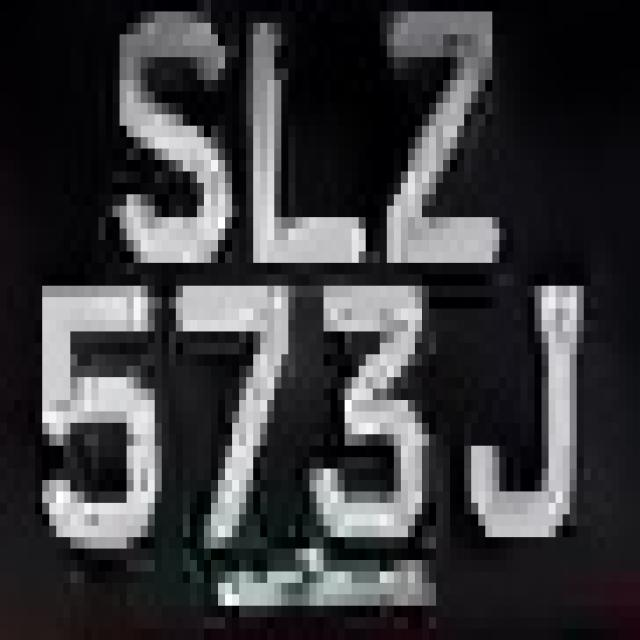3: (288, 252, 429, 594)
5: (21, 251, 169, 583)
7: (155, 263, 302, 606)
J: (443, 252, 598, 548)
L: (239, 12, 380, 274)
S: (106, 11, 218, 286)
Z: (366, 12, 520, 274)
